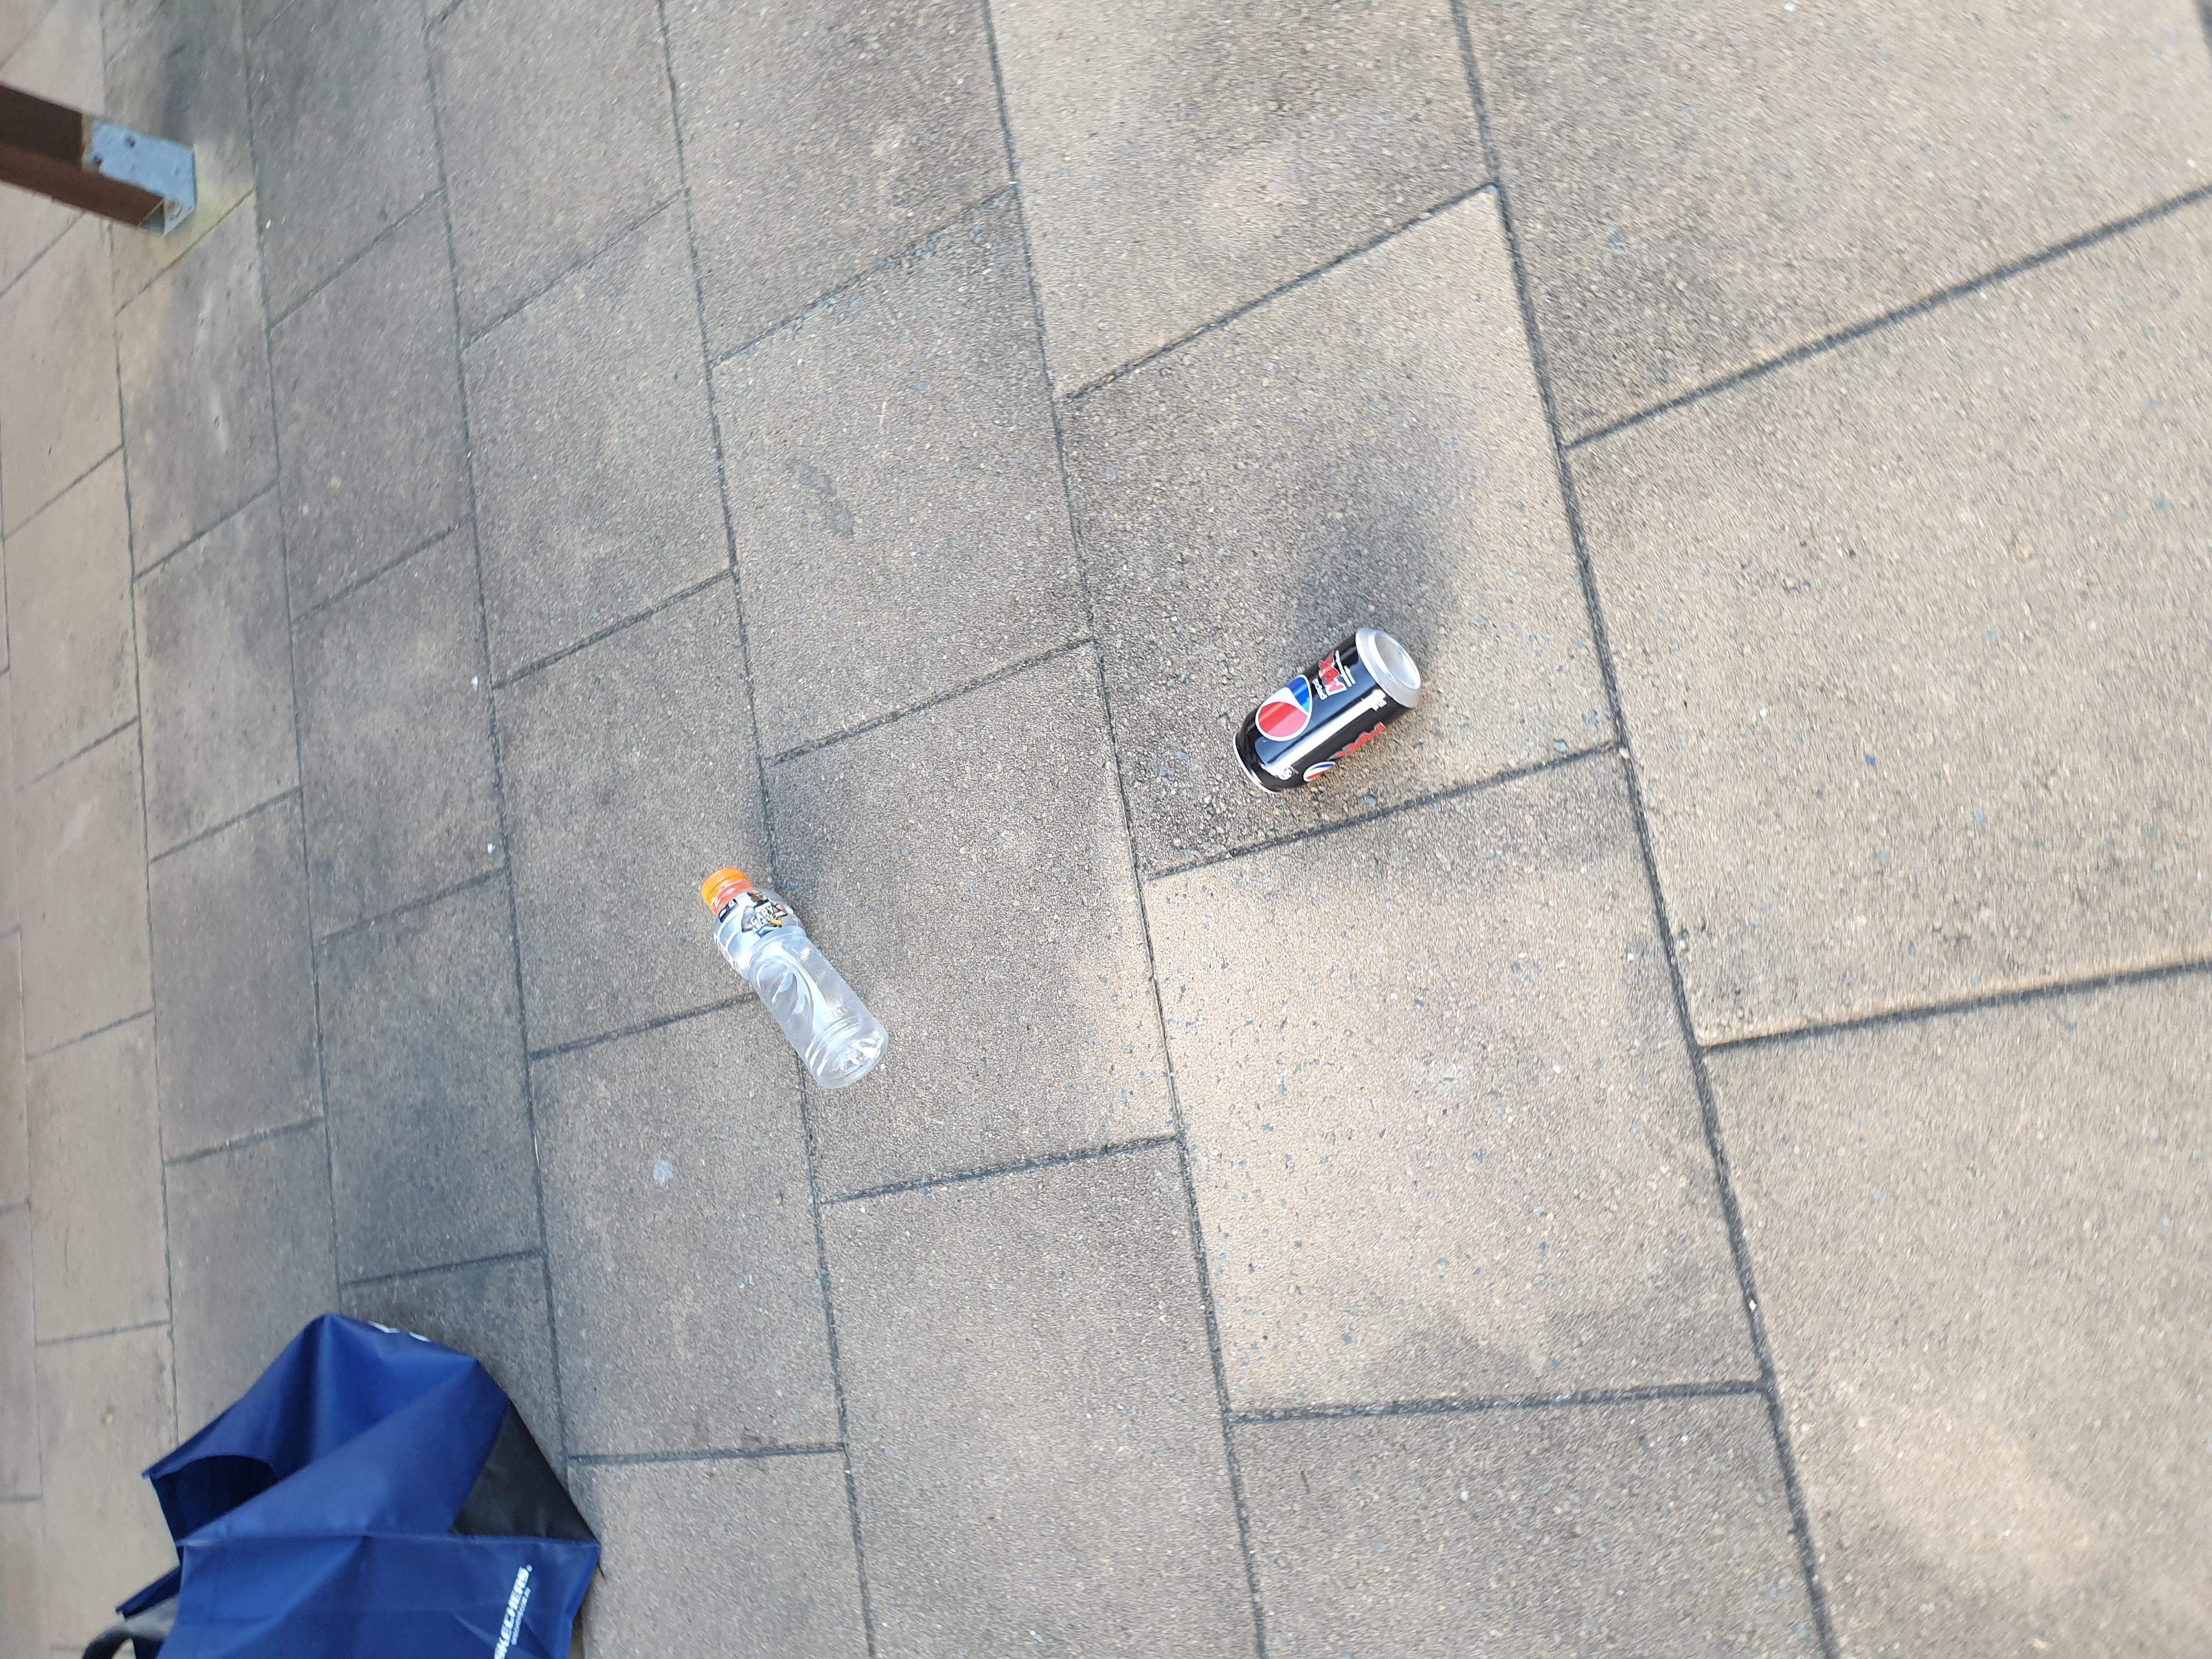Plastic Bottle: (700, 868, 888, 1086), (1231, 627, 1425, 791)
